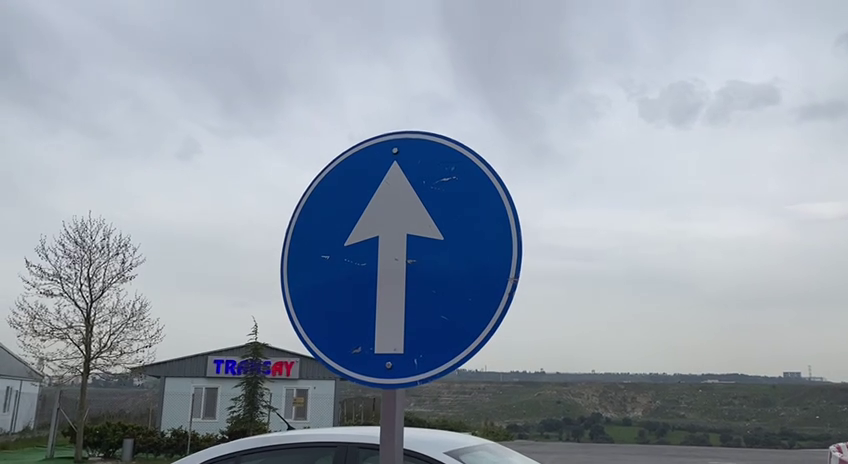forward: (275, 127, 528, 391)
